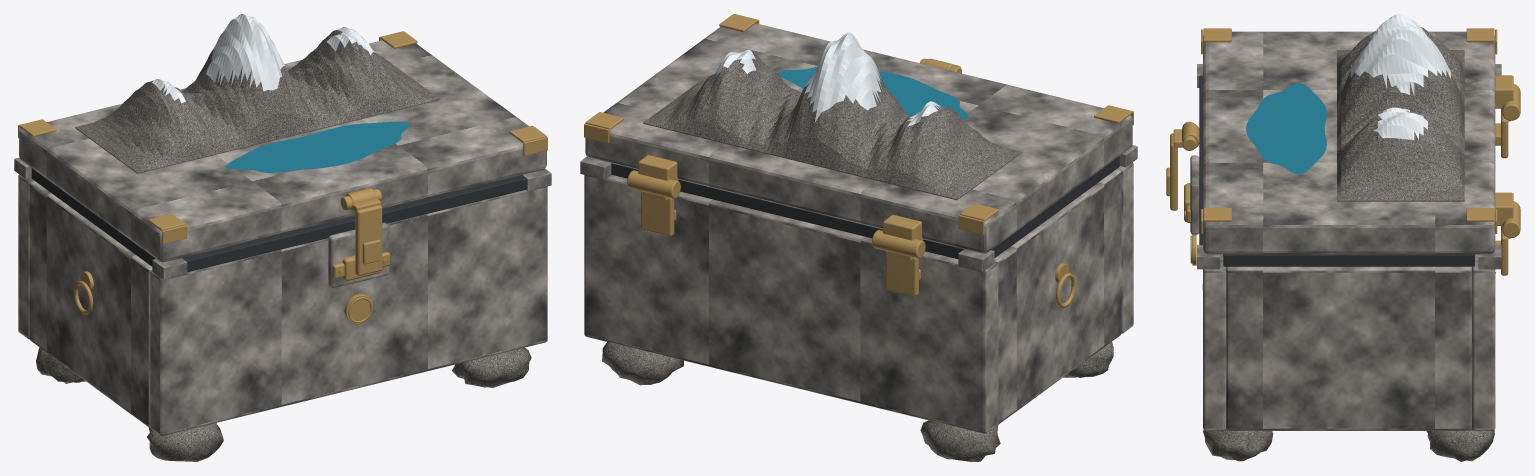
The model's file is tajikistan.glb.
The picture shows the model from 3 angles, left to right: view 1: azimuth 30°, elevation 25°; view 2: azimuth 150°, elevation 25°; view 3: azimuth 270°, elevation 25°; orthographic projection. The views are drawn at different scales.
Parts seen in each view (by area): view 1: Mineral body / long, Lid / polished slab, Terrain / Pamir ridge, Mineral body / end, Terrain / Alpine lake, Mineral seam / long, Granite foot, Granite foot.002, Mineral body / long.001, Latch / lifting hasp, Mineral body / clasp seat, Mineral seam / side (+3 smaller); view 2: Mineral body / long.001, Lid / polished slab, Terrain / Pamir ridge, Mineral body / end, Mineral seam / long.001, Terrain / Alpine lake, Granite foot.001, Granite foot.003, Mineral body / long, Mineral seam / side, Hinge / fixed mount, Hinge / fixed mount.001 (+7 smaller); view 3: Mineral body / end.001, Lid / polished slab, Terrain / Pamir ridge, Terrain / Alpine lake, Mineral body / long.001, Mineral body / long, Mineral seam / side.001, Granite foot.002, Granite foot.003, Mineral body / clasp seat, Mineral seam / long, Hinge / moving leaf (+10 smaller).
Part boxes in pixels (left/top/right/bottom): Mineral body / long: left=150, top=186, right=547, bottom=435; Lid / polished slab: left=19, top=40, right=546, bottom=262; Terrain / Pamir ridge: left=75, top=14, right=440, bottom=173; Mineral body / end: left=29, top=181, right=152, bottom=427; Terrain / Alpine lake: left=226, top=121, right=409, bottom=172; Mineral seam / long: left=182, top=175, right=526, bottom=272; Granite foot: left=147, top=423, right=223, bottom=461; Granite foot.002: left=452, top=347, right=531, bottom=388; Mineral body / long.001: left=18, top=174, right=34, bottom=339; Latch / lifting hasp: left=355, top=205, right=382, bottom=275; Mineral body / clasp seat: left=328, top=222, right=388, bottom=288; Mineral seam / side: left=31, top=168, right=155, bottom=266; Mineral body / long.001: left=584, top=175, right=996, bottom=433; Lid / polished slab: left=585, top=23, right=1132, bottom=253; Terrain / Pamir ridge: left=643, top=32, right=1022, bottom=200; Mineral body / end: left=994, top=169, right=1121, bottom=424; Mineral seam / long.001: left=611, top=163, right=963, bottom=258; Terrain / Alpine lake: left=778, top=67, right=968, bottom=119; Granite foot.001: left=920, top=420, right=1000, bottom=461; Granite foot.003: left=602, top=342, right=683, bottom=385; Mineral body / long: left=1117, top=162, right=1133, bottom=333; Mineral seam / side: left=991, top=156, right=1119, bottom=257; Hinge / fixed mount: left=885, top=251, right=918, bottom=296; Hinge / fixed mount.001: left=641, top=191, right=674, bottom=236; Mineral body / end.001: left=1226, top=266, right=1471, bottom=430; Lid / polished slab: left=1203, top=31, right=1495, bottom=254; Terrain / Pamir ridge: left=1337, top=14, right=1464, bottom=201; Terrain / Alpine lake: left=1246, top=83, right=1326, bottom=174; Mineral body / long.001: left=1472, top=261, right=1495, bottom=430; Mineral body / long: left=1203, top=261, right=1226, bottom=430; Mineral seam / side.001: left=1223, top=254, right=1474, bottom=266; Granite foot.002: left=1203, top=430, right=1273, bottom=461; Granite foot.003: left=1426, top=430, right=1494, bottom=461; Mineral body / clasp seat: left=1190, top=155, right=1199, bottom=234; Mineral seam / long: left=1199, top=75, right=1202, bottom=245; Hinge / moving leaf: left=1495, top=75, right=1513, bottom=108.
Size of the model in its own units: 3.79 by 3.23 by 2.88.
6 materials, 2 textured.
